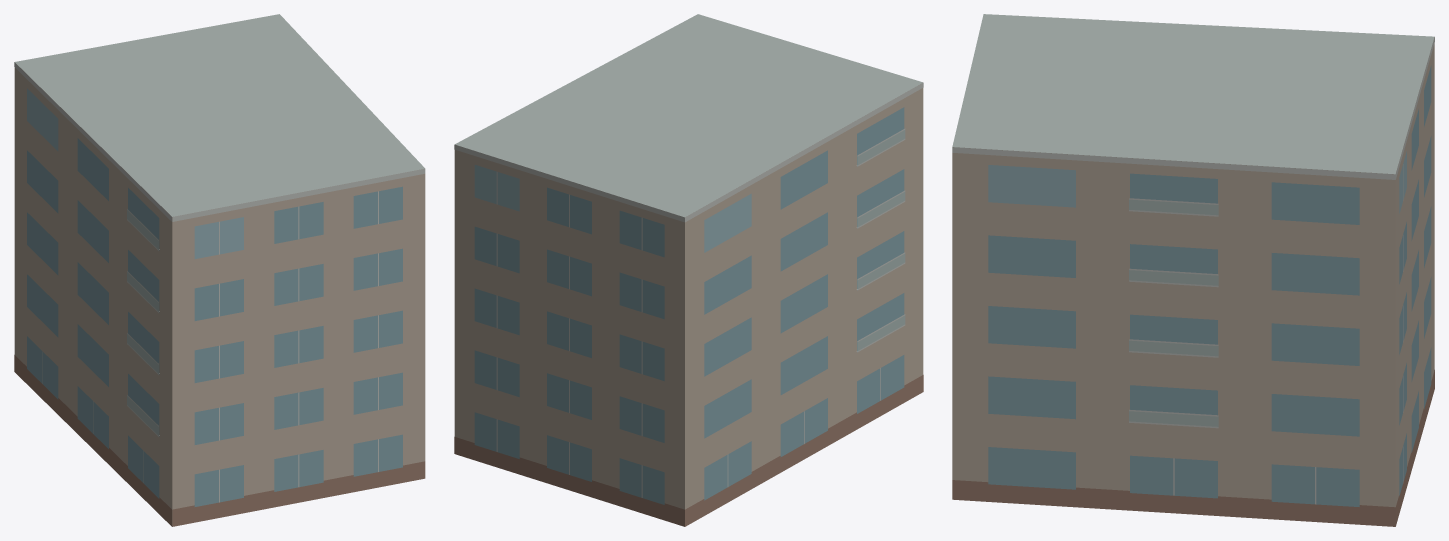
Rendered from survey-upis-32838301.glb.
3 renders of one model, left to right at view 1: azimuth 30°, elevation 25°; view 2: azimuth 150°, elevation 25°; view 3: azimuth 270°, elevation 25°, orthographic. The views are drawn at different scales.
Visible parts, largest first — view 1: survey-upis-32838301.tmp; view 2: survey-upis-32838301.tmp; view 3: survey-upis-32838301.tmp.
Part boxes in pixels (left/top/right/bottom): survey-upis-32838301.tmp: left=14, top=14, right=425, bottom=526; survey-upis-32838301.tmp: left=454, top=14, right=923, bottom=526; survey-upis-32838301.tmp: left=952, top=14, right=1434, bottom=526.
Bounding box in the file's own units: 14.48 × 14.85 × 18.42.
